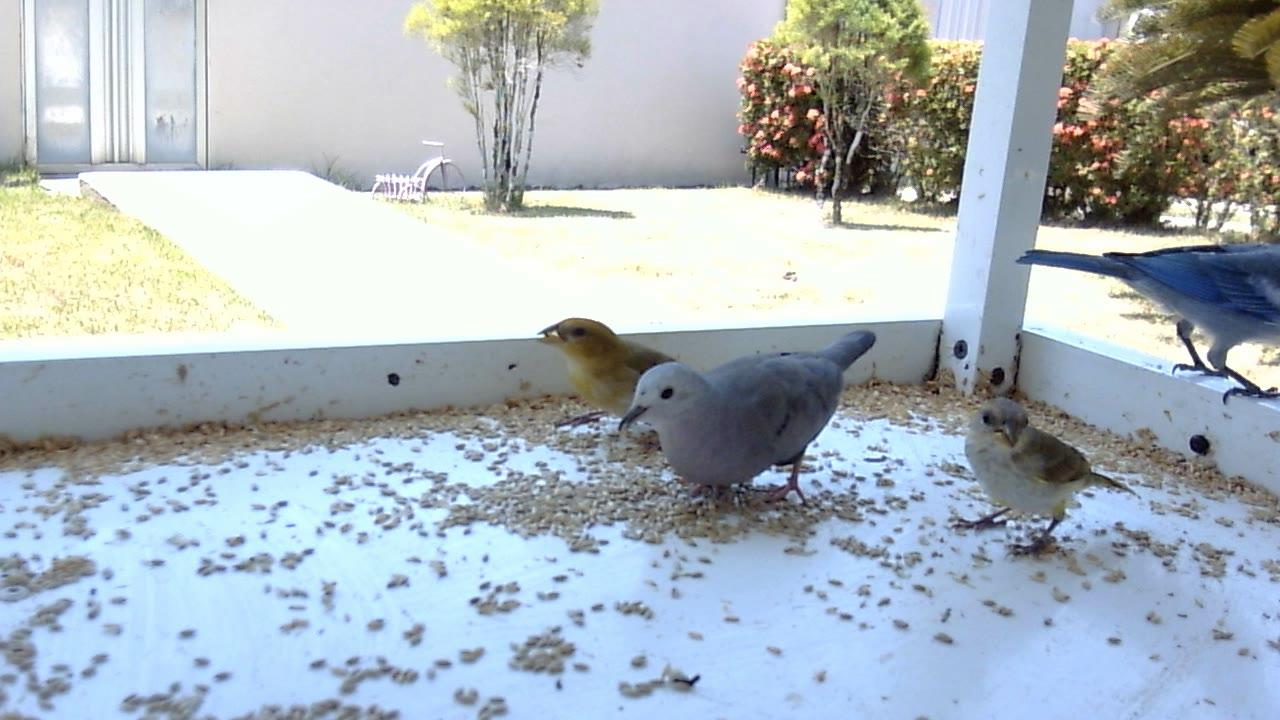canario_do_amazonas: (946, 398, 1143, 565), (536, 314, 679, 441)
rolinha: (616, 327, 884, 517)
sanhaco_da_amazonia: (1015, 240, 1280, 413)
